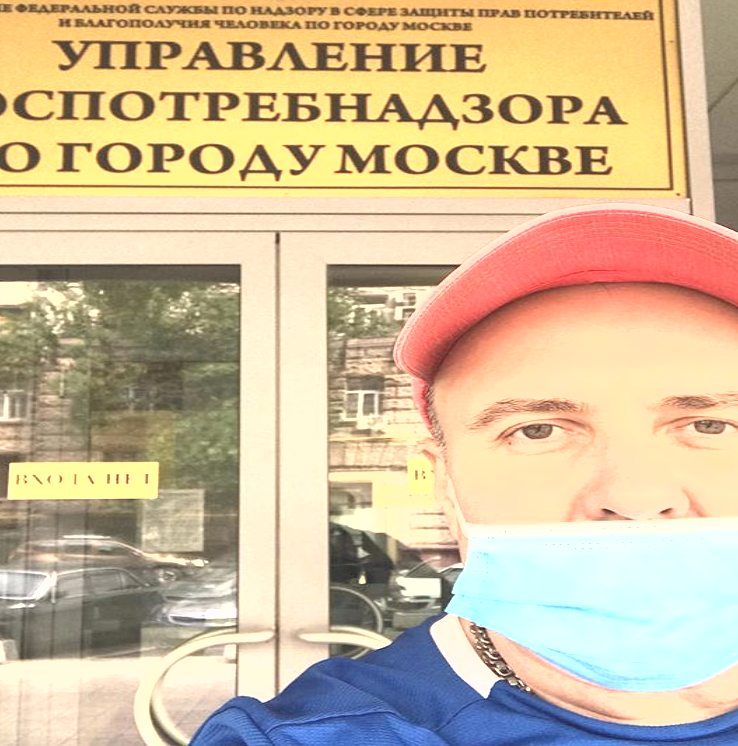mask_weared_incorrect: (422, 240, 738, 683)
